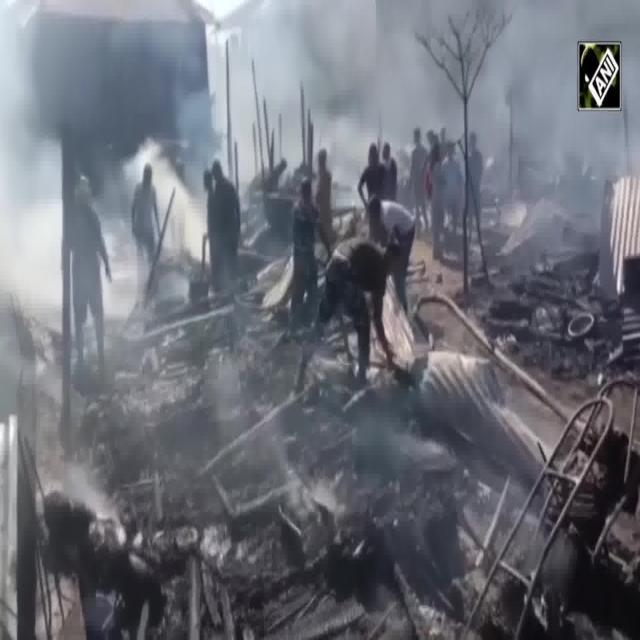smoke: (243, 13, 424, 143), (2, 145, 59, 316), (512, 21, 578, 153)
